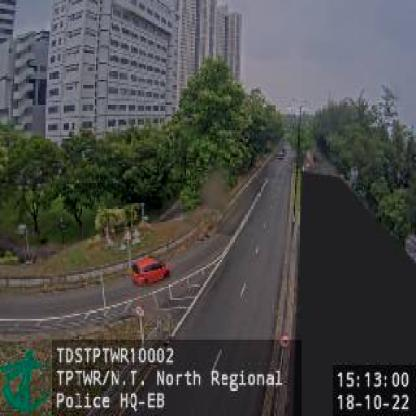Car: (131, 254, 172, 288)
